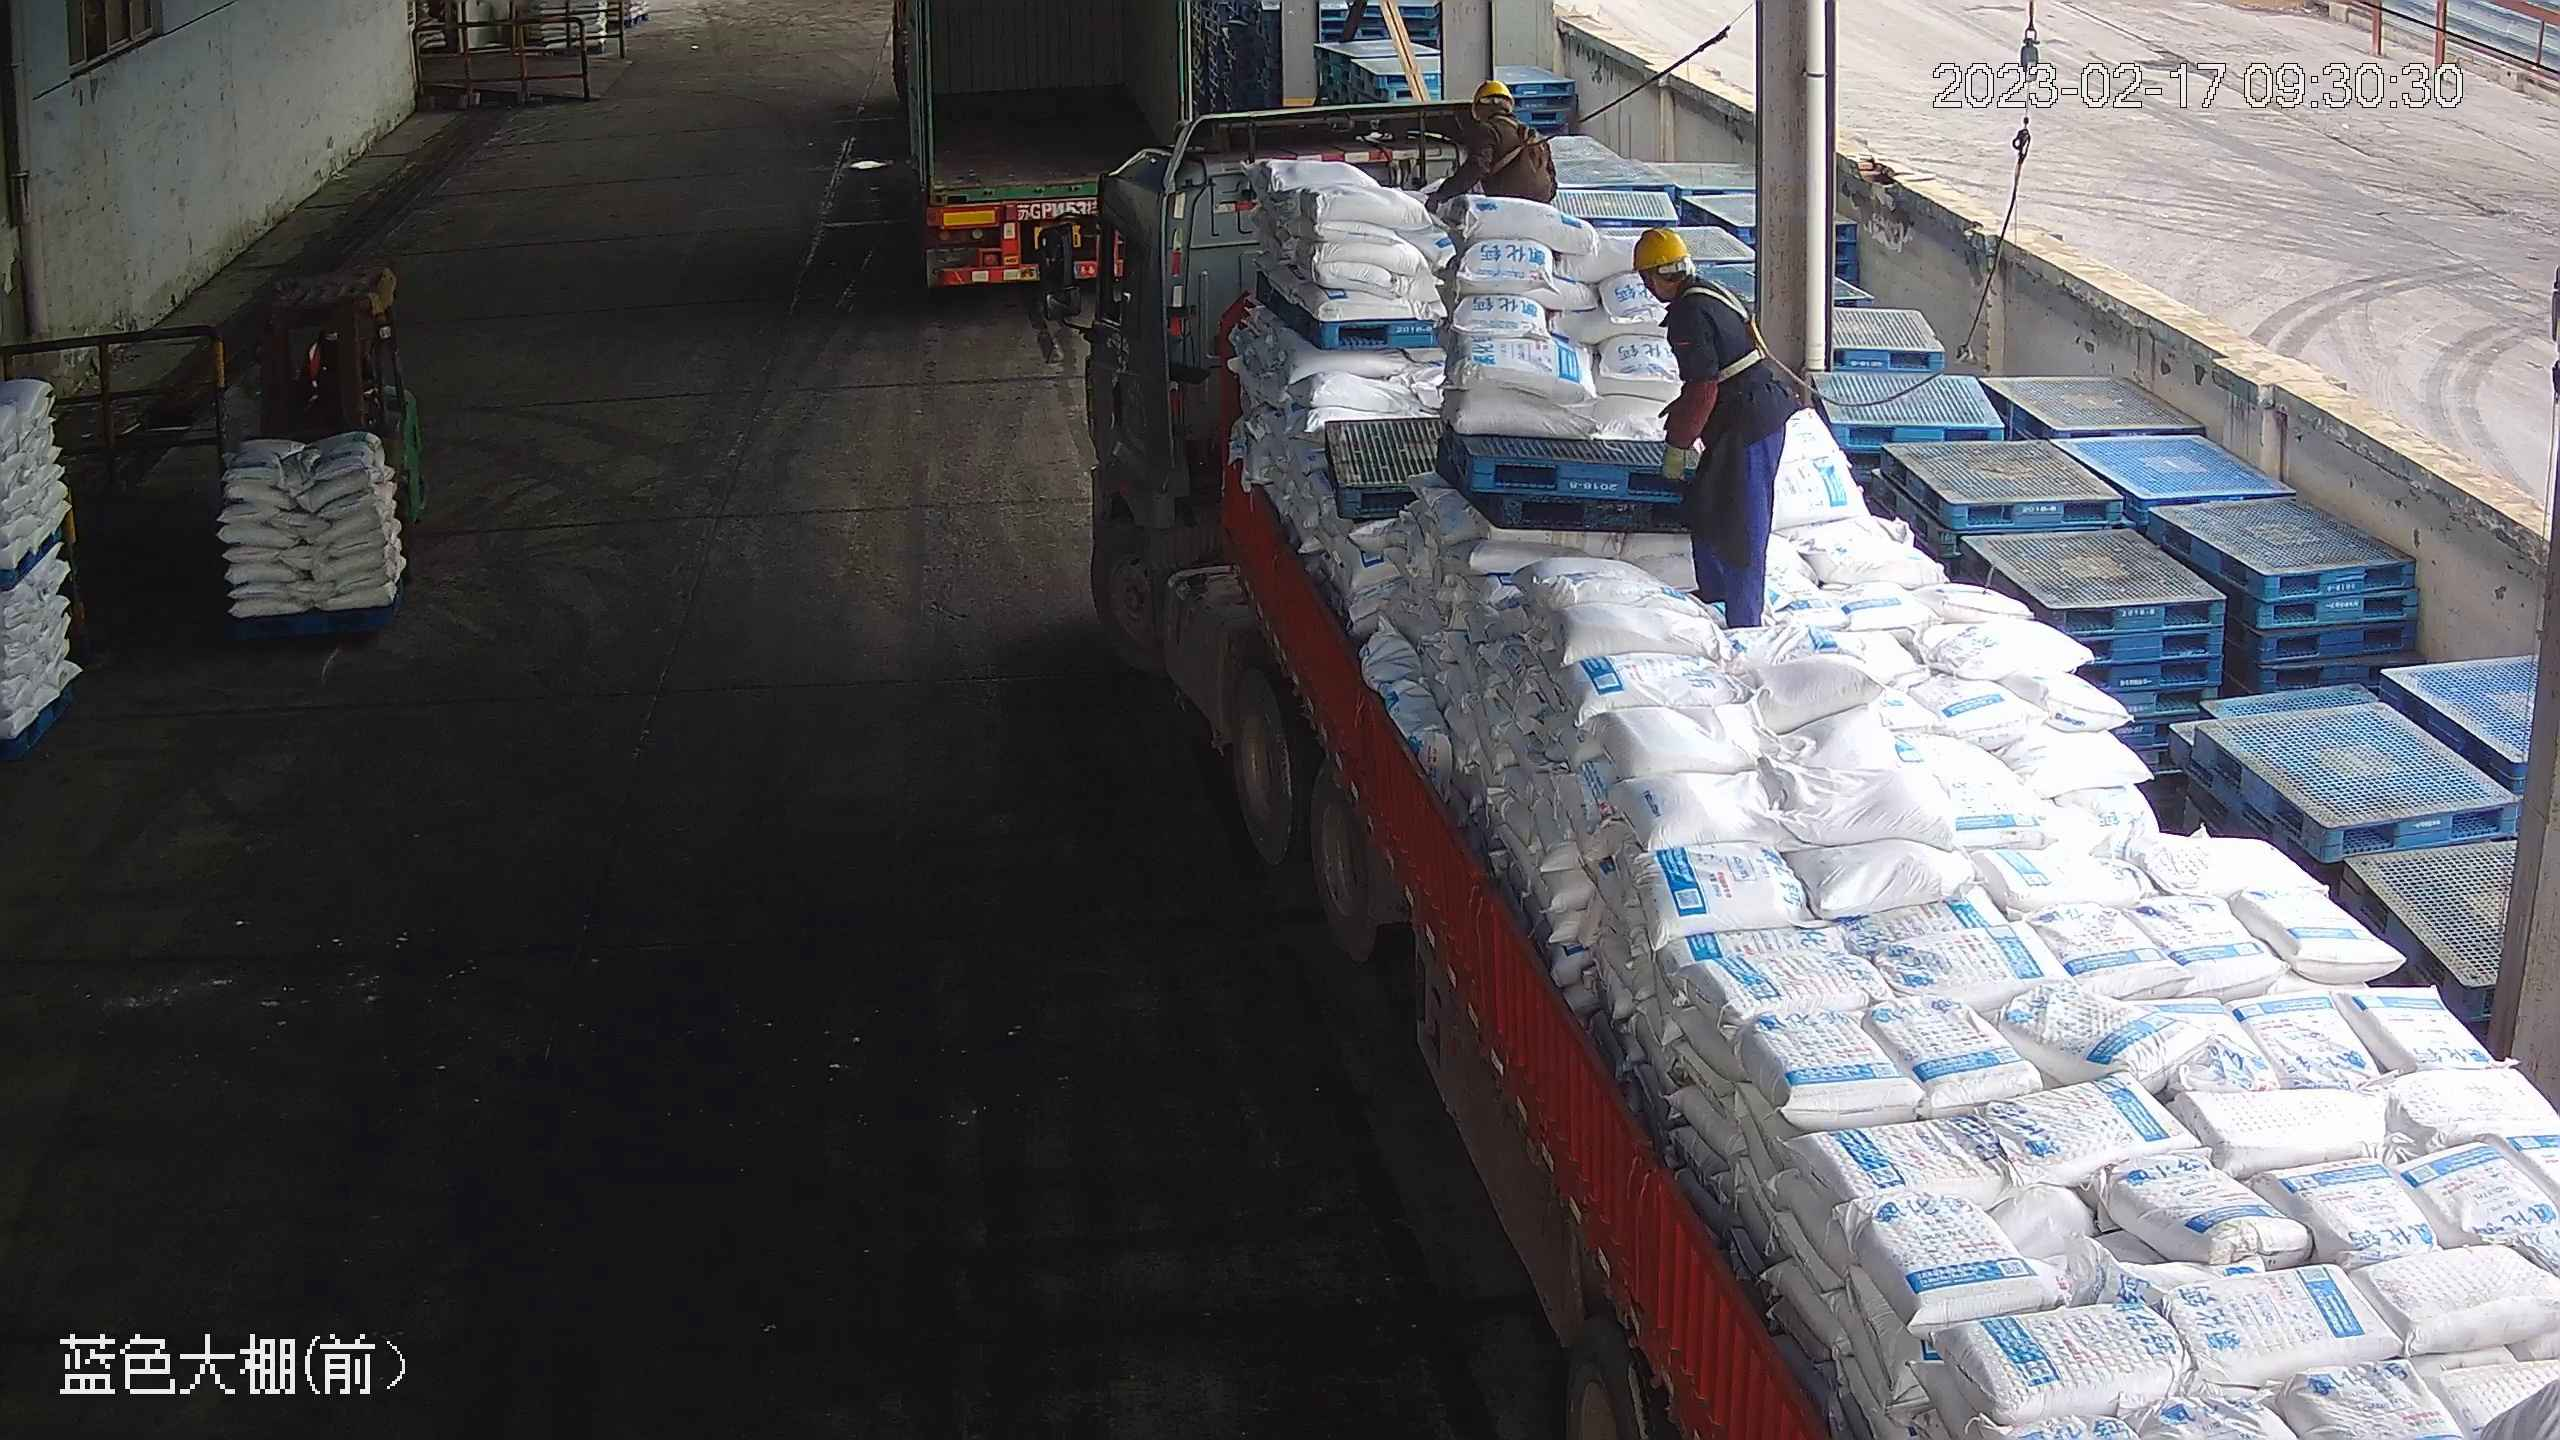belt: (1691, 269, 1783, 383), (1487, 116, 1551, 177)
head: (1634, 225, 1769, 368), (1452, 80, 1552, 182)
helmet: (1633, 226, 1698, 281), (1471, 77, 1518, 117)
people: (1629, 223, 1810, 630)
truck: (1030, 94, 2560, 1440), (886, 1, 1206, 303)
